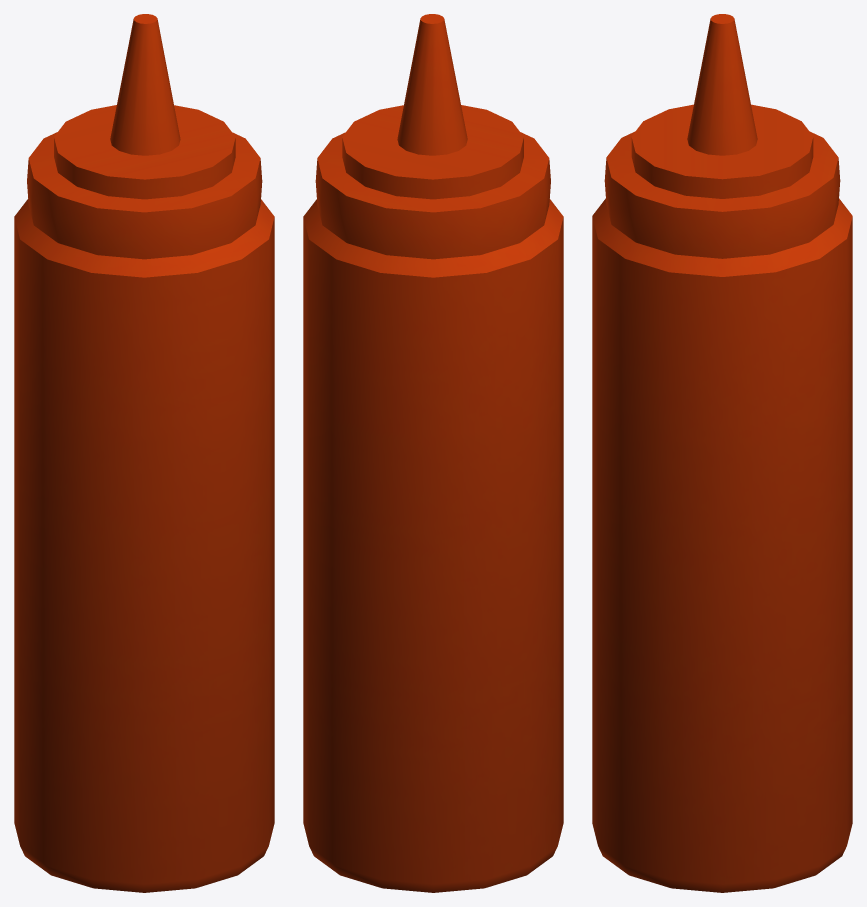
The model's file is Sauce_Combo.fbx.
The picture shows the model from 3 angles, left to right: view 1: azimuth 30°, elevation 25°; view 2: azimuth 150°, elevation 25°; view 3: azimuth 270°, elevation 25°; orthographic projection.
Visible parts, largest first — view 1: Sauce_Generic_Ketchup; view 2: Sauce_Generic_Ketchup; view 3: Sauce_Generic_Ketchup.
Part boxes in pixels (x1,y1,x2,y2): Sauce_Generic_Ketchup: [14, 14, 274, 892]; Sauce_Generic_Ketchup: [303, 14, 563, 892]; Sauce_Generic_Ketchup: [592, 14, 852, 892].
Bounding box in the file's own units: 5.66 × 19.93 × 5.7.
